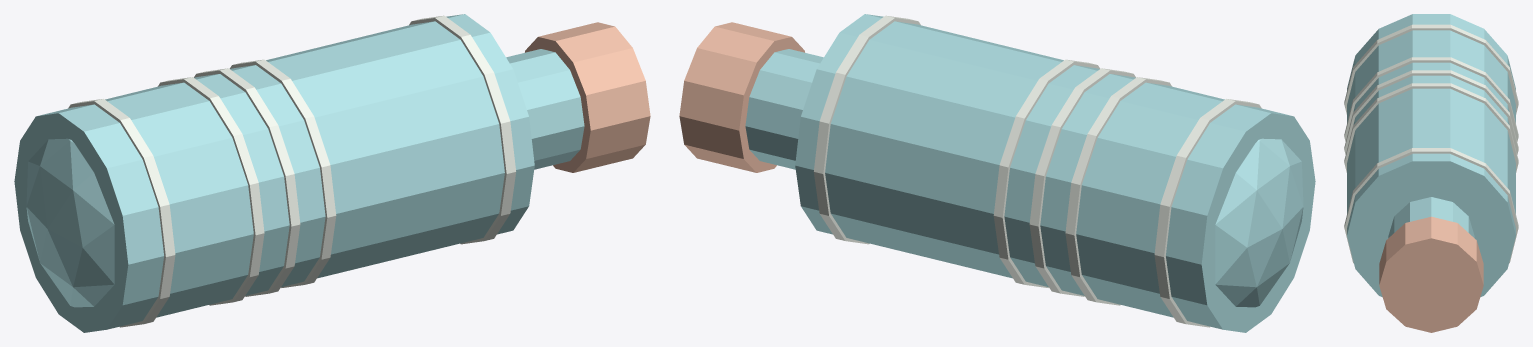
The model's file is plastic_bottle.glb.
3 renders of one model, left to right at view 1: azimuth 30°, elevation 25°; view 2: azimuth 150°, elevation 25°; view 3: azimuth 270°, elevation 25°, orthographic. The views are drawn at different scales.
Visible parts, largest first — view 1: plastic_bottle_plastic_aqua, plastic_bottle_plastic_white, plastic_bottle_plastic_coral; view 2: plastic_bottle_plastic_aqua, plastic_bottle_plastic_white, plastic_bottle_plastic_coral; view 3: plastic_bottle_plastic_aqua, plastic_bottle_plastic_coral, plastic_bottle_plastic_white.
Part boxes in pixels (x1,y1,x2,y2): plastic_bottle_plastic_aqua: [14, 14, 584, 332]; plastic_bottle_plastic_white: [68, 15, 516, 327]; plastic_bottle_plastic_coral: [525, 22, 650, 172]; plastic_bottle_plastic_aqua: [745, 14, 1315, 332]; plastic_bottle_plastic_white: [813, 15, 1261, 327]; plastic_bottle_plastic_coral: [679, 22, 804, 172]; plastic_bottle_plastic_aqua: [1347, 14, 1515, 297]; plastic_bottle_plastic_coral: [1379, 216, 1483, 332]; plastic_bottle_plastic_white: [1344, 24, 1518, 263].
Size of the model in its own units: 0.95 by 0.3315 by 0.34.
